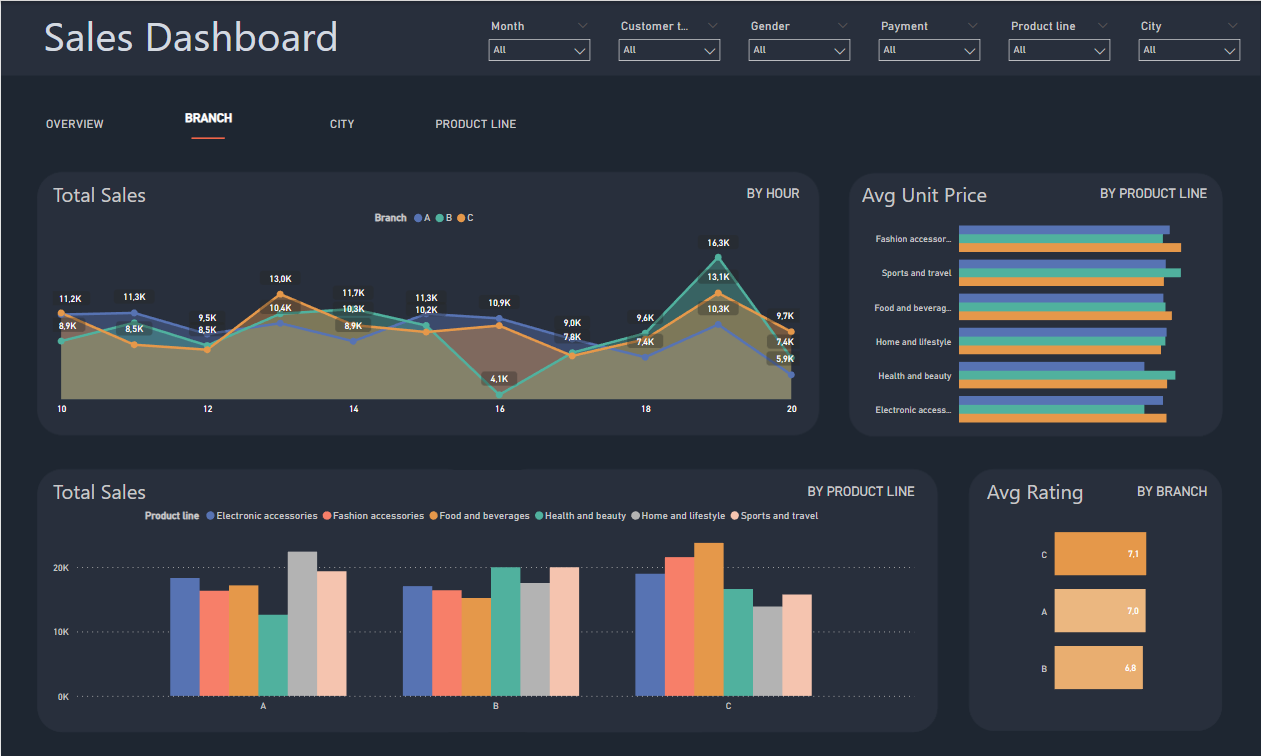

This screenshot's page, from the dashboard's own definition file:
{"tool":"powerbi","page":{"name":"BRANCH","canvas":[1500,900],"ordinal":1},"visuals":[{"type":"textbox","title":"Sales Dashboard","box":[40,4.5,374.9,117.5],"z":0},{"type":"pageNavigator","box":[25.3,122,627.8,50.6],"z":1000},{"type":"textbox","box":[58,209.8,139.8,53.6],"z":2000},{"type":"clusteredBarChart","title":"BY BRANCH","fields":{"Category":["Worksheet.Branch"],"Y":["Avg(Worksheet.Rating)"]},"box":[1233.2,575.7,208.3,279.7],"z":3000},{"type":"textbox","box":[1169.3,563.8,139.8,53.6],"z":4000},{"type":"shape","box":[58,456.7,52.1,44.6],"z":5000},{"type":"shape","box":[904.5,456.7,52.1,44.6],"z":6000},{"type":"clusteredBarChart","title":"BY PRODUCT LINE","fields":{"Y":["Worksheet.AvgUnitPrice"],"Category":["Worksheet.Product line"],"Series":["Worksheet.Branch"]},"box":[1023.5,221.7,418,303.5],"z":7000},{"type":"textbox","box":[1021,209.8,168.1,53.6],"z":8000},{"type":"textbox","box":[58,563.8,224.6,53.6],"z":9000},{"type":"slicer","fields":{"Values":["Worksheet.City"]},"box":[1344.8,17.9,141.3,68.4],"z":10000},{"type":"slicer","fields":{"Values":["Worksheet.Product line"]},"box":[1190.1,17.9,141.3,68.4],"z":11000},{"type":"slicer","fields":{"Values":["Worksheet.Payment"]},"box":[1035.4,17.9,141.3,68.4],"z":12000},{"type":"slicer","fields":{"Values":["Worksheet.Gender"]},"box":[880.7,17.9,141.3,68.4],"z":13000},{"type":"slicer","fields":{"Values":["Worksheet.Customer type"]},"box":[726,17.9,141.3,68.4],"z":14000},{"type":"slicer","fields":{"Values":["Worksheet.Date.Variation.Date Hierarchy.Month"]},"box":[571.2,17.9,141.3,68.4],"z":15000},{"type":"shape","box":[228,147,40.2,34.2],"z":16000},{"type":"areaChart","title":"BY HOUR","fields":{"Y":["Sum(Worksheet.Total)"],"Series":["Worksheet.Branch"],"Category":["Worksheet.Hour"]},"box":[58,221.7,898.5,279.7],"z":17000},{"type":"textbox","box":[58,209.8,139.8,53.6],"z":18000},{"type":"shape","box":[404.6,559.3,431.4,312.4],"z":19000},{"type":"clusteredColumnChart","title":"BY PRODUCT LINE","fields":{"Series":["Worksheet.Product line"],"Y":["Worksheet.MeasureTotal"],"Category":["Worksheet.Branch"]},"box":[58,575.7,1035.4,279.7],"z":20000}]}

Visuals, with their boxes in screenshot pixels (x1, y1, x2, y2), scaled from the page's 1500x900 canvas onto the 1261x756 screenshot:
"Sales Dashboard" textbox: bbox=[34, 4, 349, 102]
pageNavigator: bbox=[21, 102, 549, 145]
textbox: bbox=[49, 176, 166, 221]
"BY BRANCH" clusteredBarChart: bbox=[1037, 484, 1212, 719]
textbox: bbox=[983, 474, 1101, 519]
shape: bbox=[49, 384, 93, 421]
shape: bbox=[760, 384, 804, 421]
"BY PRODUCT LINE" clusteredBarChart: bbox=[860, 186, 1212, 441]
textbox: bbox=[858, 176, 1000, 221]
textbox: bbox=[49, 474, 238, 519]
slicer - Worksheet.City: bbox=[1131, 15, 1249, 72]
slicer - Worksheet.Product line: bbox=[1000, 15, 1119, 72]
slicer - Worksheet.Payment: bbox=[870, 15, 989, 72]
slicer - Worksheet.Gender: bbox=[740, 15, 859, 72]
slicer - Worksheet.Customer type: bbox=[610, 15, 729, 72]
slicer - Worksheet.Date.Variation.Date Hierarchy.Month: bbox=[480, 15, 599, 72]
shape: bbox=[192, 123, 225, 152]
"BY HOUR" areaChart: bbox=[49, 186, 804, 421]
textbox: bbox=[49, 176, 166, 221]
shape: bbox=[340, 470, 703, 732]
"BY PRODUCT LINE" clusteredColumnChart: bbox=[49, 484, 919, 719]
